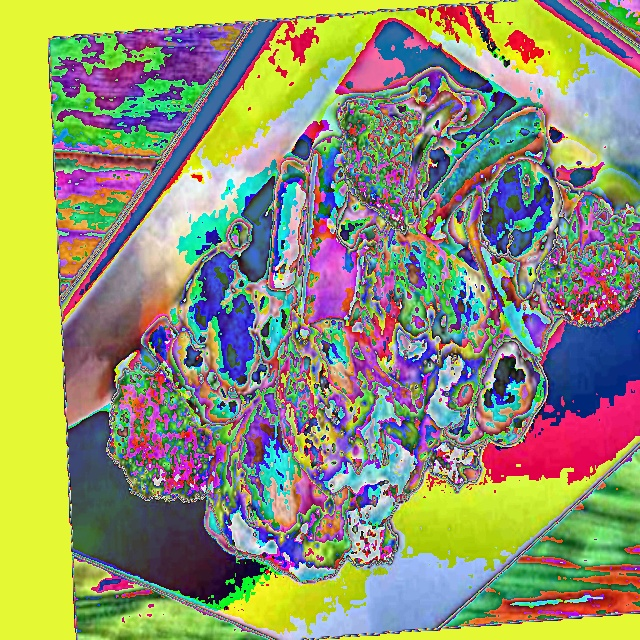background: (107, 87, 562, 584), (106, 138, 639, 329)
